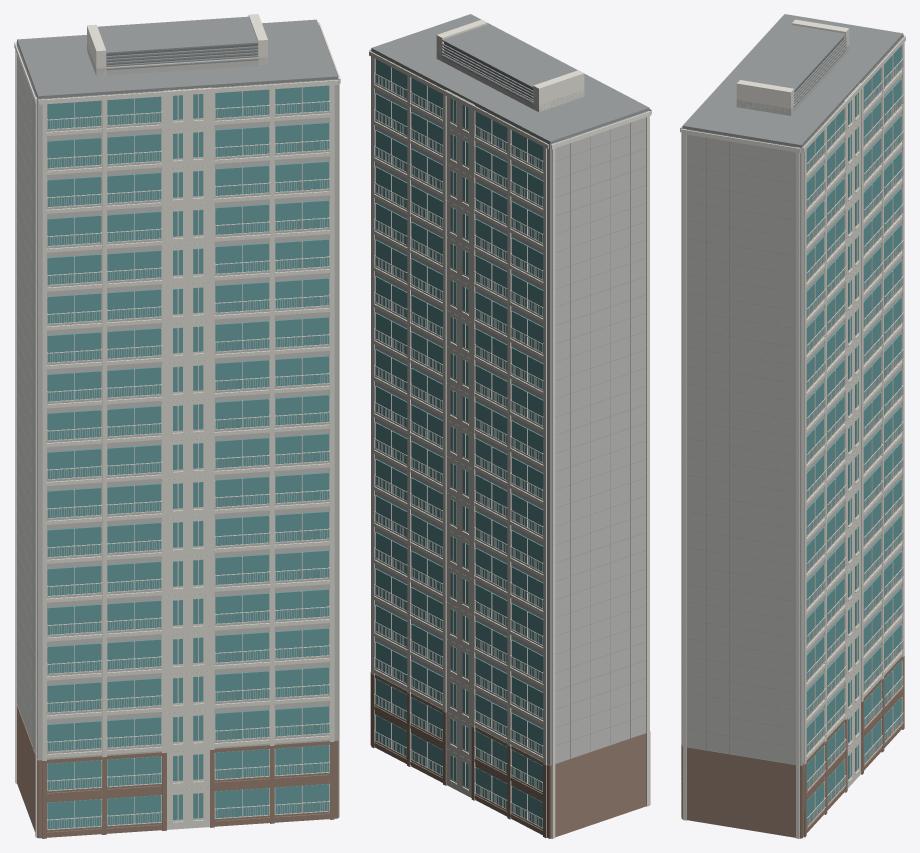
The model's file is bespoke-jamsil-els-147.glb.
3 renders of one model, left to right at view 1: azimuth 30°, elevation 25°; view 2: azimuth 150°, elevation 25°; view 3: azimuth 270°, elevation 25°, orthographic. The views are drawn at different scales.
Visible parts, largest first — view 1: Els147_editable_Els147_turquoise_balcony_glazing, Els147_white_exact_chunk_1, Els147_editable_Els147_light_grey_solid_wall, Els147_white_exact_chunk_2, Els147_editable_Els147_modest_grey_flat_roof_caps, Els147_editable_Els147_muted_ground_wall, Els147_editable_Els147_narrow_charcoal_service_strips; view 2: Els147_editable_Els147_light_grey_solid_wall, Els147_editable_Els147_turquoise_balcony_glazing, Els147_white_exact_chunk_0, Els147_white_exact_chunk_1, Els147_editable_Els147_modest_grey_flat_roof_caps, Els147_editable_Els147_muted_ground_wall, Els147_white_exact_chunk_2, Els147_editable_Els147_narrow_charcoal_service_strips; view 3: Els147_editable_Els147_light_grey_solid_wall, Els147_editable_Els147_turquoise_balcony_glazing, Els147_white_exact_chunk_0, Els147_editable_Els147_modest_grey_flat_roof_caps, Els147_editable_Els147_muted_ground_wall, Els147_white_exact_chunk_1, Els147_white_exact_chunk_2.
Boxes of the visible parts, <box> form: Els147_editable_Els147_turquoise_balcony_glazing: <box>47,85,329,829</box>; Els147_white_exact_chunk_1: <box>14,41,269,837</box>; Els147_editable_Els147_light_grey_solid_wall: <box>17,42,337,791</box>; Els147_white_exact_chunk_2: <box>38,14,340,818</box>; Els147_editable_Els147_modest_grey_flat_roof_caps: <box>17,16,338,759</box>; Els147_editable_Els147_muted_ground_wall: <box>17,704,338,838</box>; Els147_editable_Els147_narrow_charcoal_service_strips: <box>106,44,257,65</box>; Els147_editable_Els147_light_grey_solid_wall: <box>371,51,649,765</box>; Els147_editable_Els147_turquoise_balcony_glazing: <box>375,59,543,827</box>; Els147_white_exact_chunk_0: <box>371,52,543,828</box>; Els147_white_exact_chunk_1: <box>369,51,651,838</box>; Els147_editable_Els147_modest_grey_flat_roof_caps: <box>371,14,649,763</box>; Els147_editable_Els147_muted_ground_wall: <box>370,671,650,838</box>; Els147_white_exact_chunk_2: <box>369,19,651,670</box>; Els147_editable_Els147_narrow_charcoal_service_strips: <box>444,42,533,98</box>; Els147_editable_Els147_light_grey_solid_wall: <box>682,36,903,765</box>; Els147_editable_Els147_turquoise_balcony_glazing: <box>806,45,901,825</box>; Els147_white_exact_chunk_0: <box>804,67,903,827</box>; Els147_editable_Els147_modest_grey_flat_roof_caps: <box>682,14,903,765</box>; Els147_editable_Els147_muted_ground_wall: <box>681,656,904,838</box>; Els147_white_exact_chunk_1: <box>760,18,905,774</box>; Els147_white_exact_chunk_2: <box>680,17,849,838</box>.
Size of the model in its own units: 27.18 by 68.2 by 19.46.
